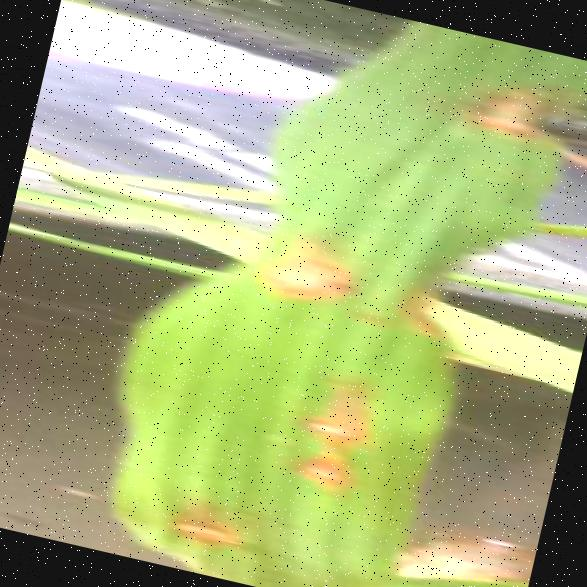Leaf_smut: (110, 432, 288, 576), (230, 202, 380, 330), (265, 350, 402, 463), (450, 63, 570, 170), (268, 434, 366, 508)
